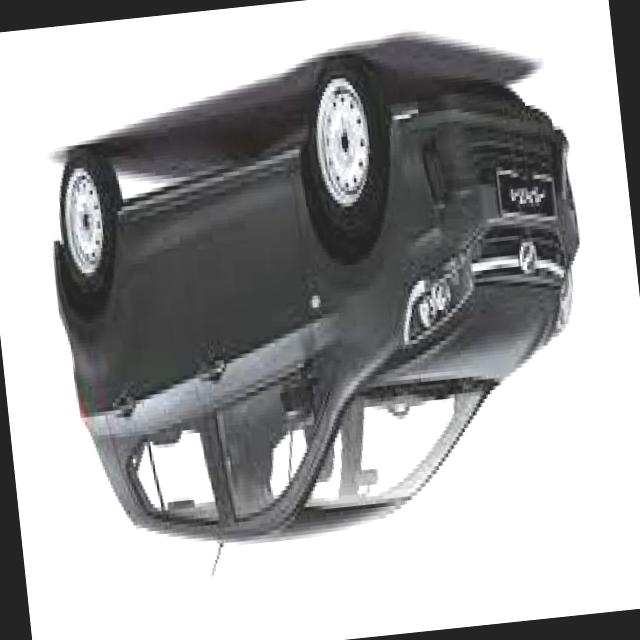PeroduaAxia: (32, 31, 614, 592)
